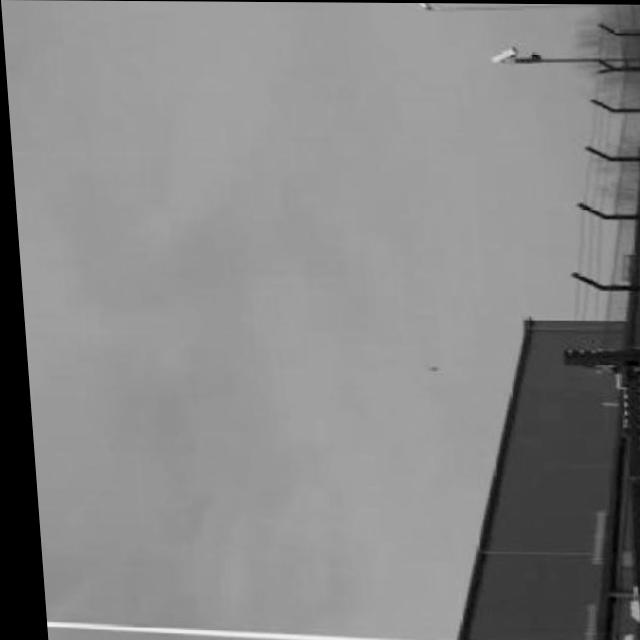helikopter: (416, 362, 441, 378)
